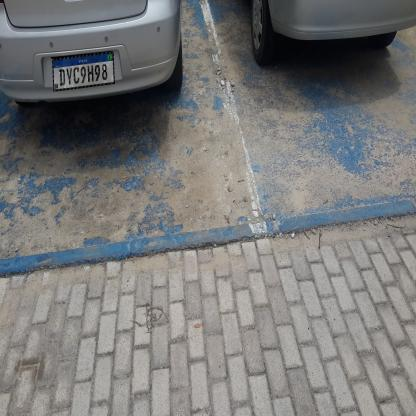PlacaM: (52, 51, 115, 92)
